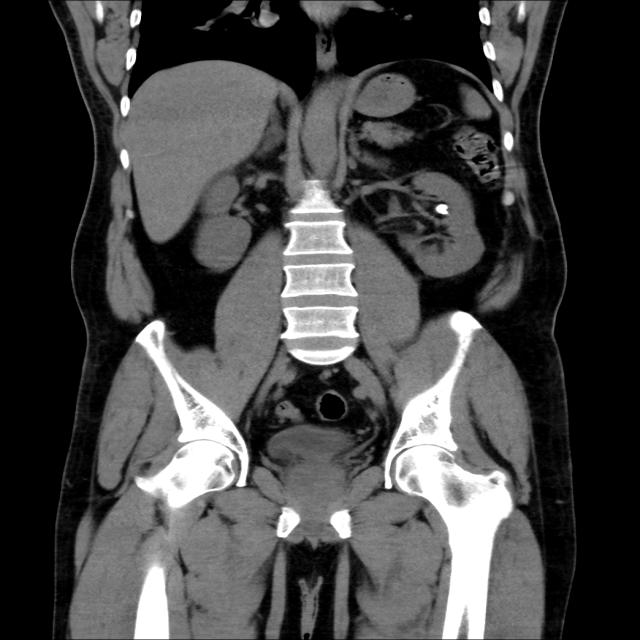kidneystone: (435, 204, 448, 215)
